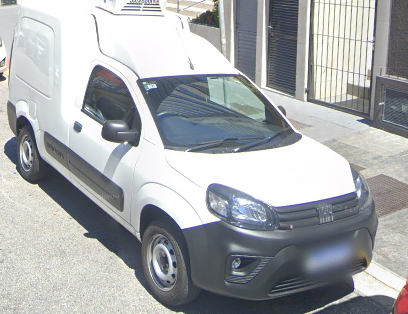car: (7, 6, 377, 308)
